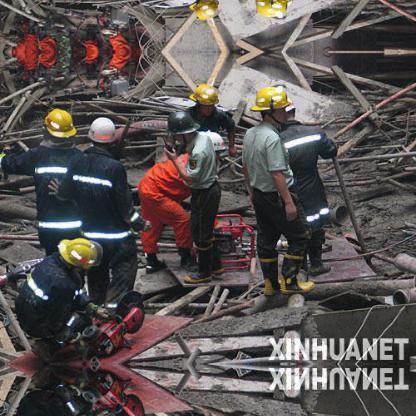helmet: (57, 231, 106, 275), (84, 112, 126, 149), (245, 81, 290, 115), (158, 106, 204, 139), (41, 104, 76, 142), (187, 81, 225, 111)
